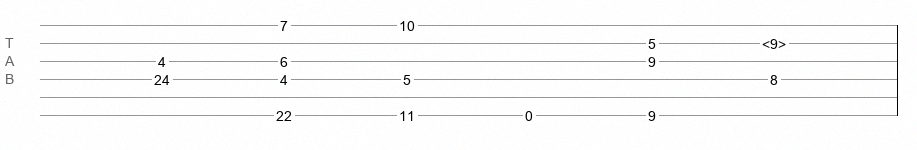0: (525, 108, 533, 118)
10: (399, 18, 415, 28)
11: (399, 108, 415, 118)
22: (276, 108, 292, 118)
24: (154, 72, 170, 82)
4: (158, 54, 166, 64), (280, 72, 288, 82)
5: (403, 72, 411, 82), (648, 36, 656, 46)
6: (280, 54, 288, 64)
7: (280, 18, 288, 28)
8: (770, 72, 778, 82)
9: (648, 108, 656, 118), (648, 54, 656, 64)
harmonic: (762, 36, 786, 46)
